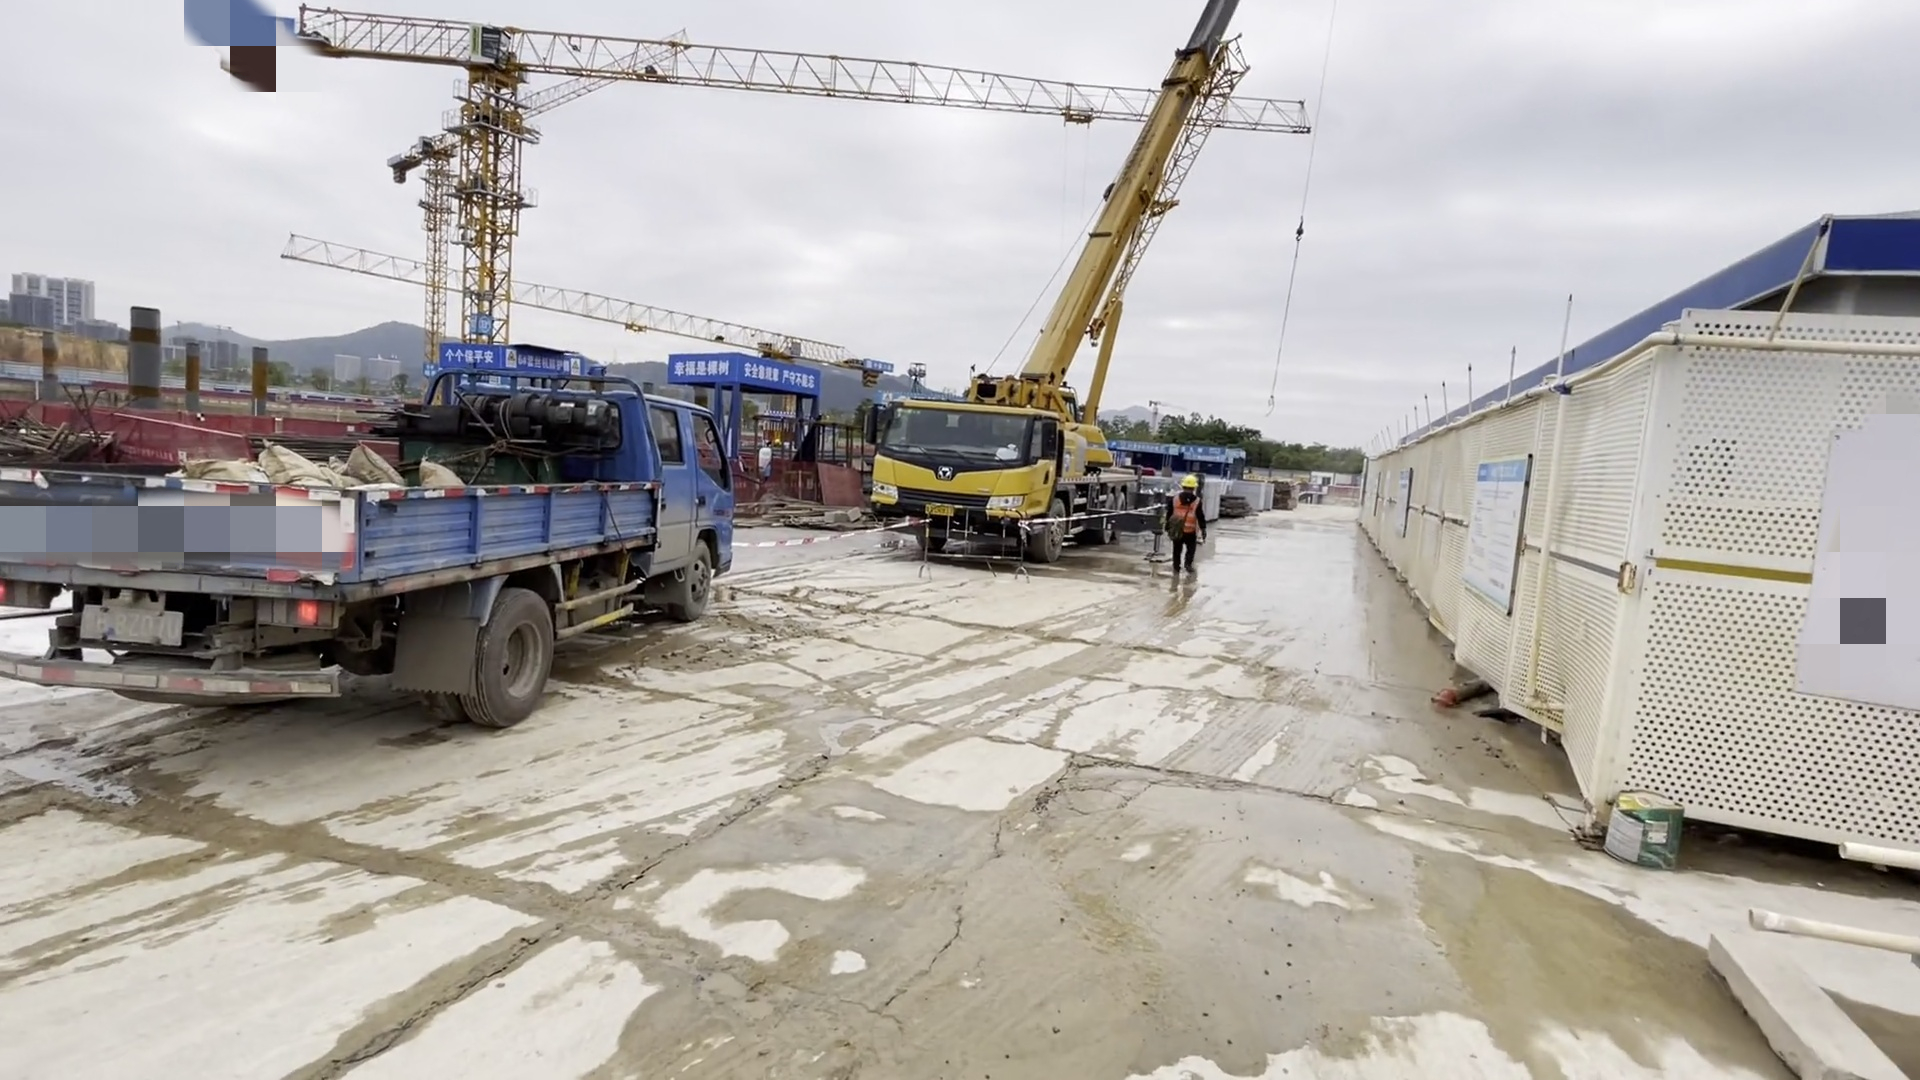helmet: (1169, 477, 1202, 503)
person: (1156, 472, 1219, 594)
slogan: (434, 331, 599, 388), (658, 349, 825, 403)
vest: (1171, 503, 1204, 549)
